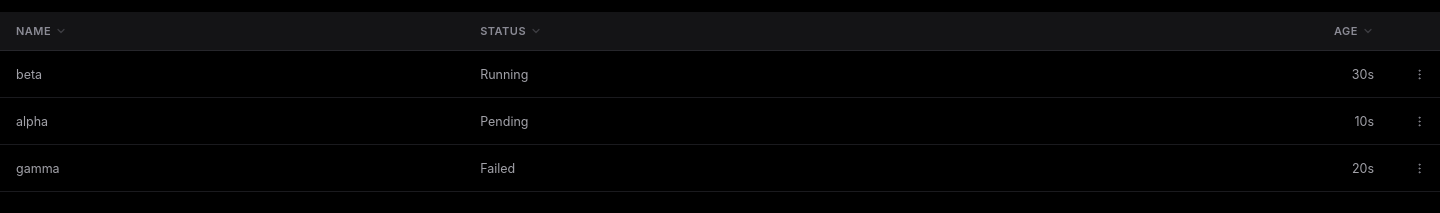
Test: DataTable › row actions button opens an accessible menu; Shift+F10 too
Click the button named "Actions for beta" at (1419, 74), box [1406,62,1432,86]
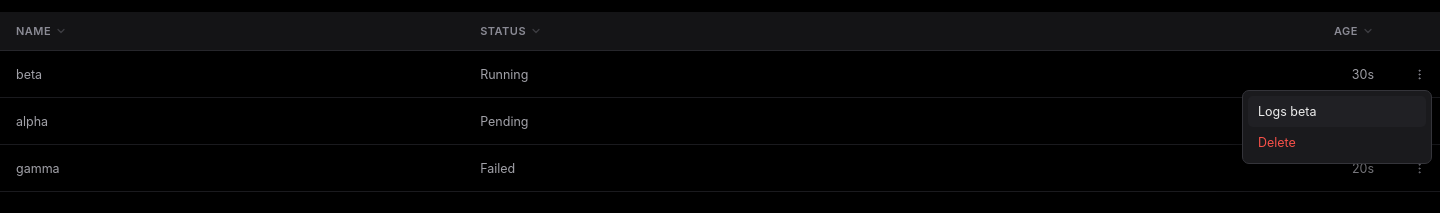
Expected: the number of menu items is 2, [1248,96,1426,127]; [1248,127,1426,158]
Press Enter
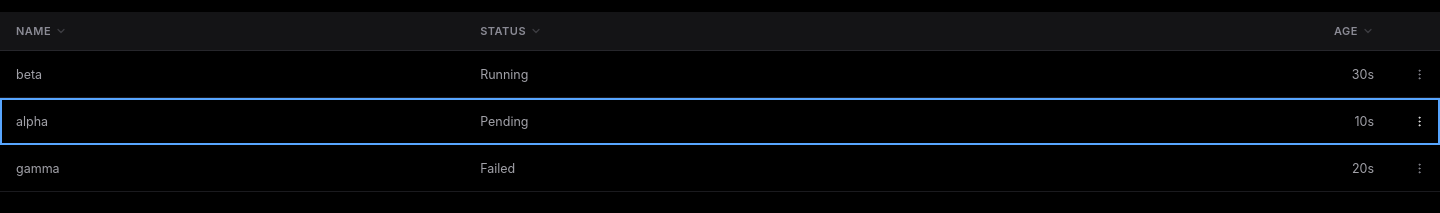
Expected: the menu is gone
Press F10 in the row "alpha Pending 10s", box [0,98,1439,145]
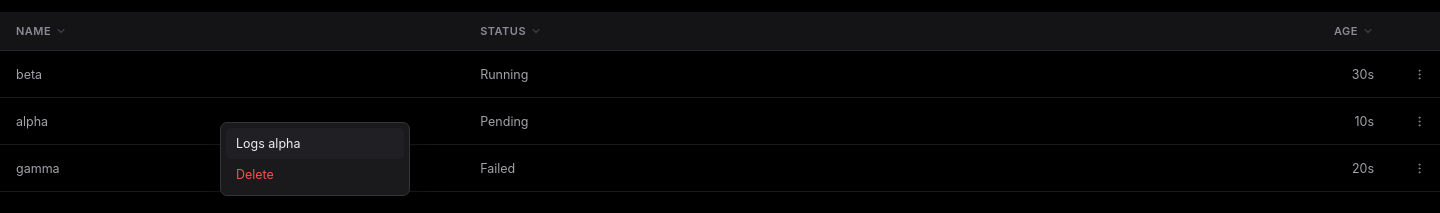
Expected: the menu named "Actions for alpha" is shown, [220,122,410,196]
